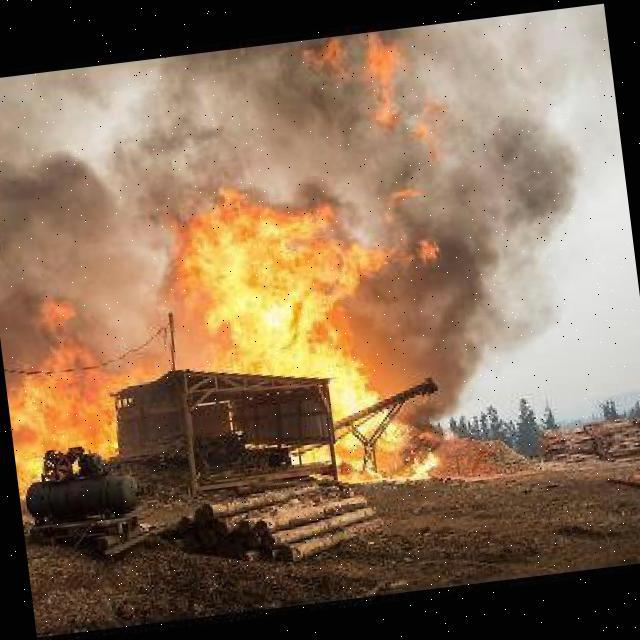Fire: (156, 157, 484, 471), (0, 262, 178, 494), (292, 25, 460, 180), (335, 447, 437, 483)
Smoke: (433, 8, 604, 348), (362, 237, 489, 431)
